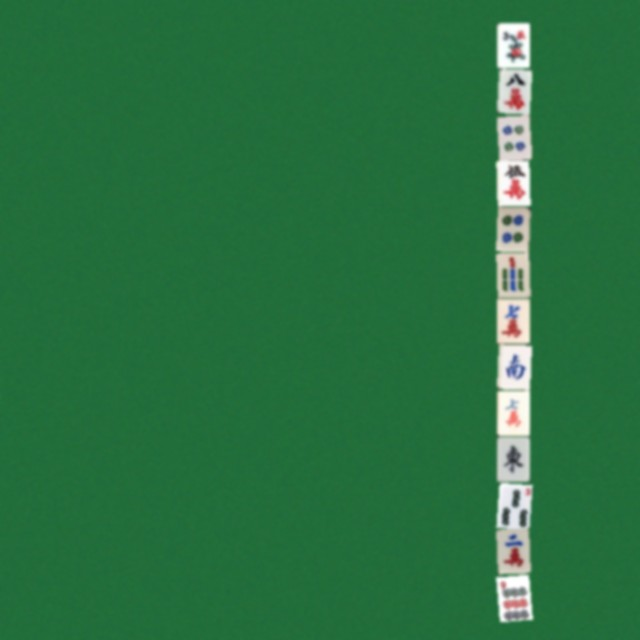tile: (496, 22, 529, 67), (496, 68, 529, 113), (496, 114, 529, 159), (496, 160, 529, 205), (496, 206, 529, 251), (496, 252, 529, 297), (496, 298, 529, 343), (496, 344, 529, 389), (496, 390, 529, 435), (496, 436, 529, 481), (496, 482, 529, 527), (496, 528, 529, 573), (496, 574, 529, 619)
